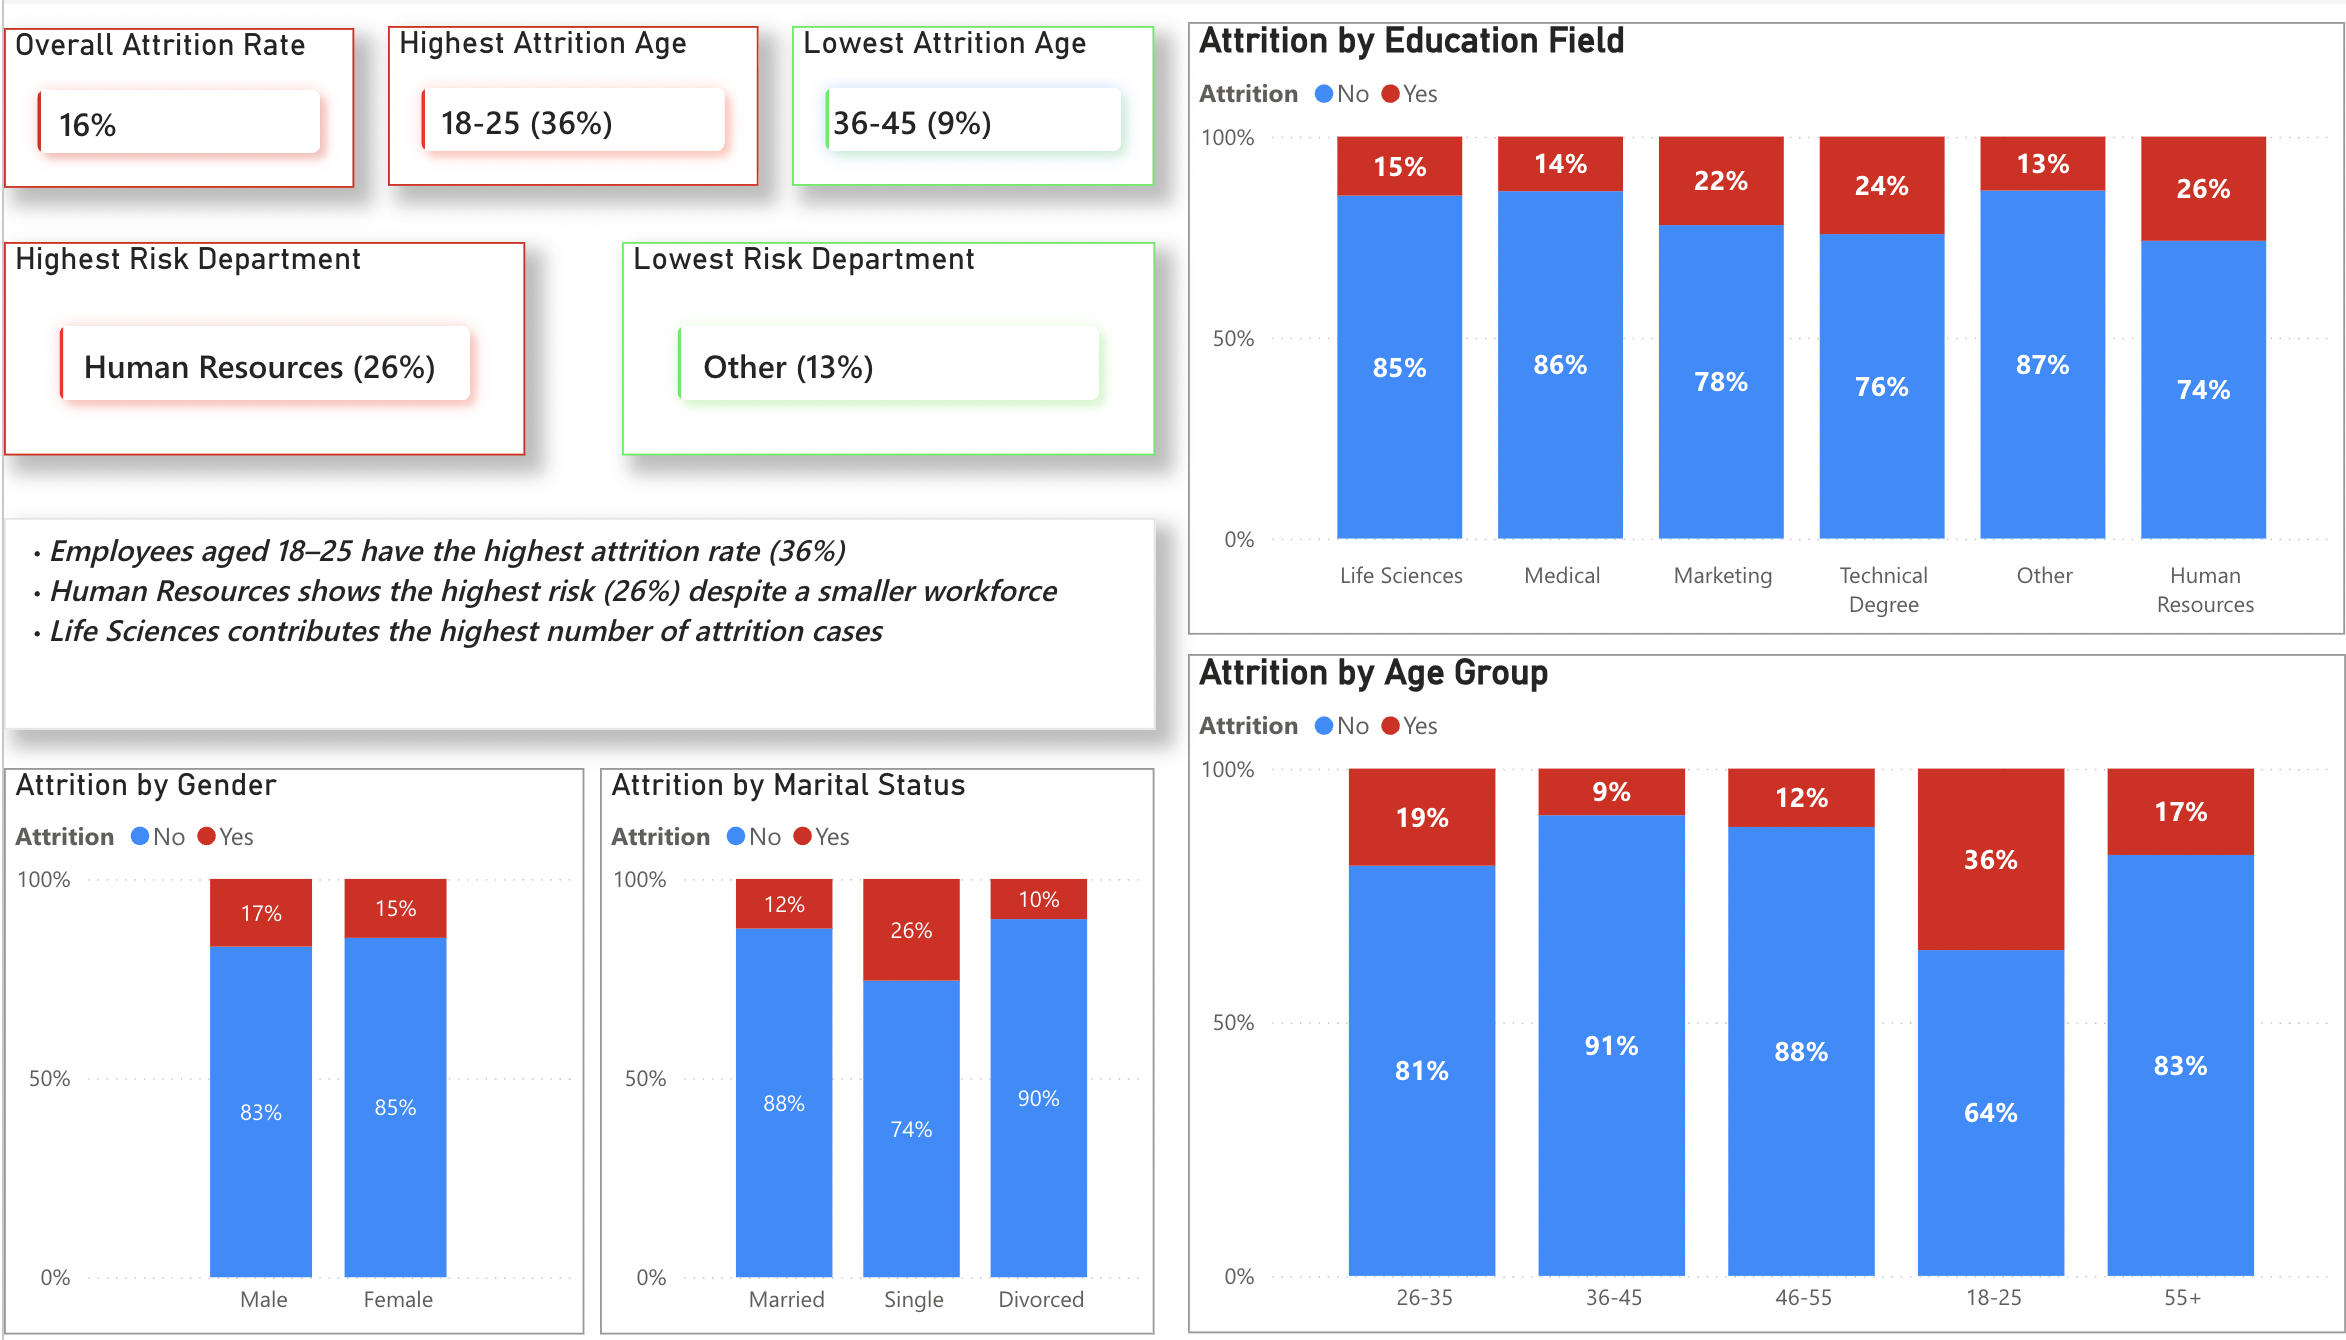

The page's visual inventory and layout, read from the dashboard file:
{"tool":"powerbi","page":{"name":"By Demogarphics","canvas":[1280,720],"ordinal":0},"visuals":[{"type":"hundredPercentStackedColumnChart","title":"Attrition by Age Group","fields":{"Category":["Attrition Insight.Age Group"],"Series":["Attrition Insight.Attrition"],"Y":["CountNonNull(Attrition Insight.Attrition)"]},"box":[640.6,352.1,626.7,367.3],"z":0},{"type":"hundredPercentStackedColumnChart","title":"Attrition by Education Field","fields":{"Category":["Attrition Insight.EducationField"],"Series":["Attrition Insight.Attrition"],"Y":["CountNonNull(Attrition Insight.Attrition)"]},"box":[640.6,10,626.1,331.4],"z":1000},{"type":"hundredPercentStackedColumnChart","title":"Attrition by Marital Status","fields":{"Category":["Attrition Insight.MaritalStatus"],"Series":["Attrition Insight.Attrition"],"Y":["CountNonNull(Attrition Insight.Attrition)"]},"box":[322.9,413.1,300,306.3],"z":2000},{"type":"cardVisual","title":"Highest Attrition Age","fields":{"Data":["Attrition Insight.Highest Attrition Age Group"]},"box":[207.2,12.2,200.6,86.4],"z":3000},{"type":"cardVisual","title":"Lowest Risk Department","fields":{"Data":["Attrition Insight.Lowest Risk Department"]},"box":[334.3,128.4,288.5,115.7],"z":4000},{"type":"cardVisual","title":"Lowest Attrition Age","fields":{"Data":["Attrition Insight.Lowest Attrition Age Group"]},"box":[426.7,12.2,196.2,86.4],"z":5000},{"type":"hundredPercentStackedColumnChart","title":"Attrition by Gender","fields":{"Category":["Attrition Insight.Gender"],"Series":["Attrition Insight.Attrition"],"Y":["CountNonNull(Attrition Insight.Attrition)"]},"box":[0,413.1,314,306.3],"z":6000},{"type":"textbox","box":[0,278.4,622.8,114.4],"z":7000},{"type":"cardVisual","title":"Overall Attrition Rate","fields":{"Data":["Attrition Insight.Overall Attrition %"]},"box":[0,12.7,189.4,86.4],"z":8000},{"type":"cardVisual","title":"Highest Risk Department","fields":{"Data":["Attrition Insight.Highest Risk Department"]},"box":[0,128.4,282.2,115.7],"z":9000}]}

Visuals, with their boxes in screenshot pixels (x1, y1, x2, y2), scaled from the page's 1280x720 canvas onto the 2346x1340 screenshot:
"Attrition by Age Group" hundredPercentStackedColumnChart: x1=1174 y1=655 x2=2323 y2=1339
"Attrition by Education Field" hundredPercentStackedColumnChart: x1=1174 y1=19 x2=2322 y2=635
"Attrition by Marital Status" hundredPercentStackedColumnChart: x1=592 y1=769 x2=1142 y2=1339
"Highest Attrition Age" cardVisual: x1=380 y1=23 x2=747 y2=184
"Lowest Risk Department" cardVisual: x1=613 y1=239 x2=1141 y2=454
"Lowest Attrition Age" cardVisual: x1=782 y1=23 x2=1142 y2=184
"Attrition by Gender" hundredPercentStackedColumnChart: x1=0 y1=769 x2=576 y2=1339
textbox: x1=0 y1=518 x2=1141 y2=731
"Overall Attrition Rate" cardVisual: x1=0 y1=24 x2=347 y2=184
"Highest Risk Department" cardVisual: x1=0 y1=239 x2=517 y2=454
